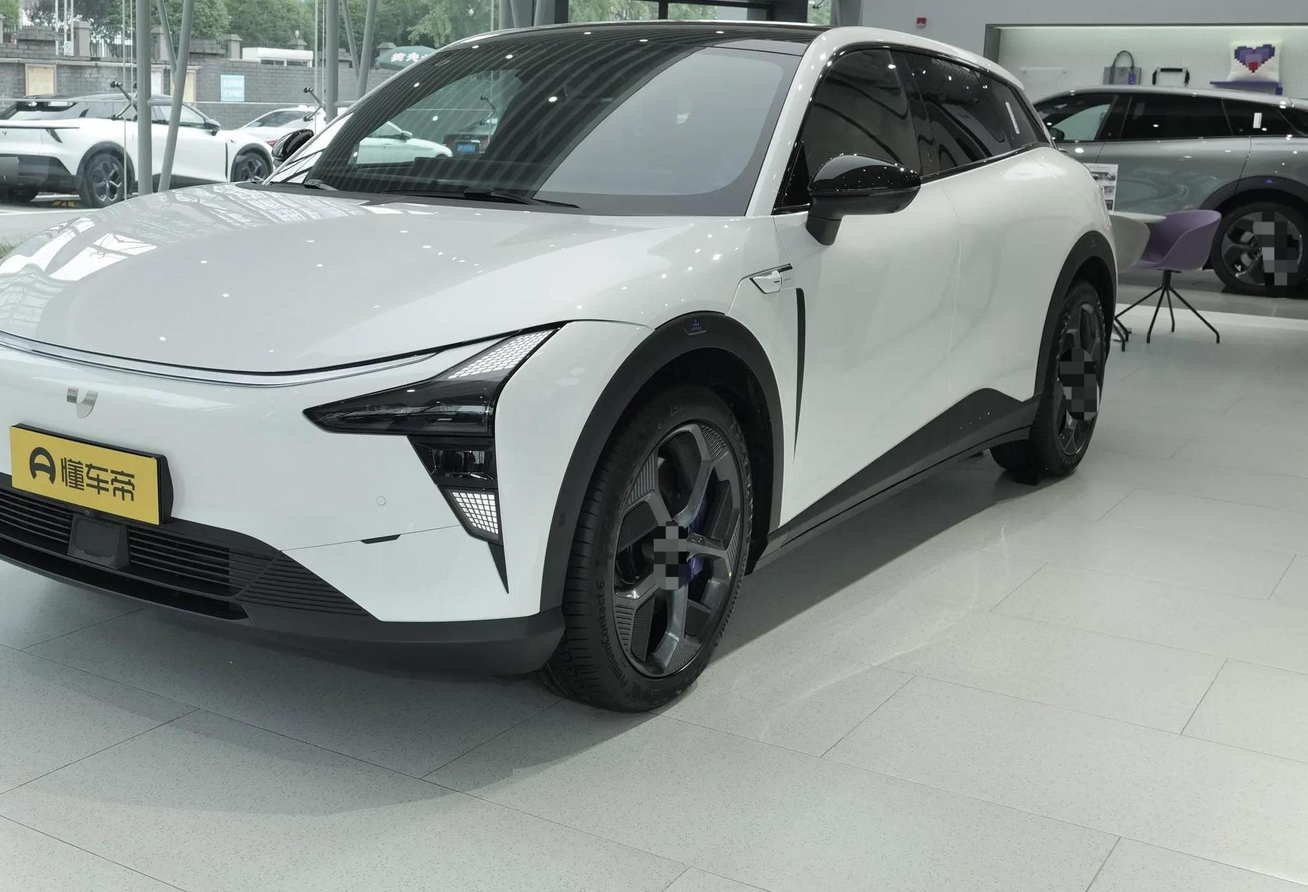JIYUE: (65, 385, 98, 418)
